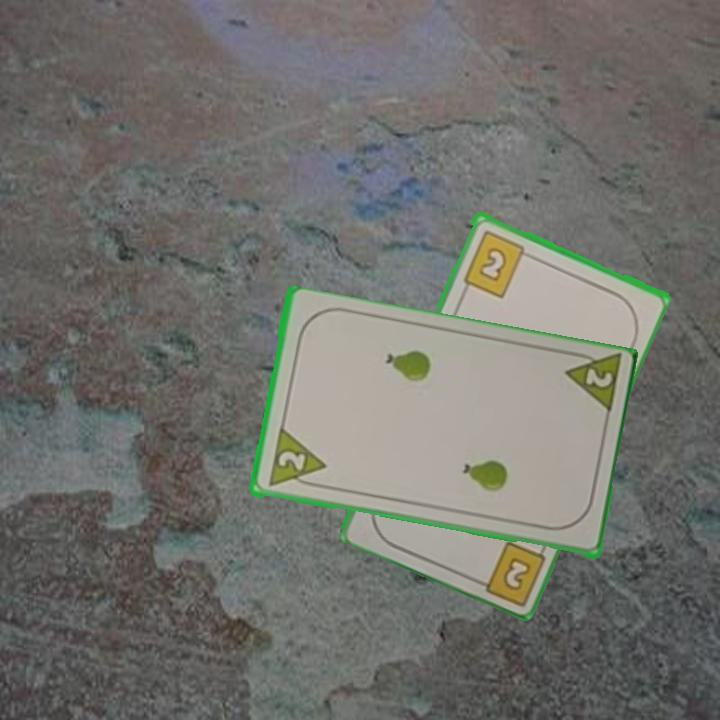2b: (459, 226, 536, 300), (468, 536, 548, 605)
2p: (560, 347, 624, 419), (264, 427, 328, 492)
